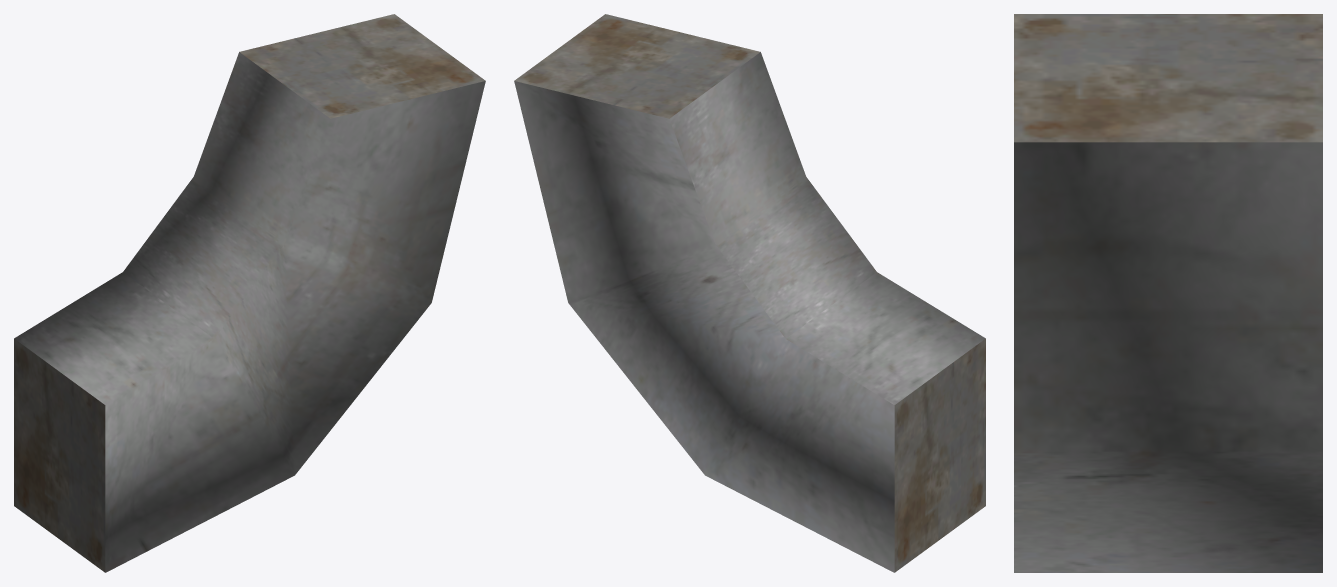
The model's file is p_glo_electrical_pipes_90deg_LOD1.obj.
The picture shows the model from 3 angles, left to right: view 1: azimuth 30°, elevation 25°; view 2: azimuth 150°, elevation 25°; view 3: azimuth 270°, elevation 25°; orthographic projection. The views are drawn at different scales.
Visible parts, largest first — view 1: mtl_p_rus_pipes_modular; view 2: mtl_p_rus_pipes_modular; view 3: mtl_p_rus_pipes_modular.
Part boxes in pixels (left/top/right/bottom): mtl_p_rus_pipes_modular: left=14, top=14, right=485, bottom=572; mtl_p_rus_pipes_modular: left=514, top=14, right=985, bottom=572; mtl_p_rus_pipes_modular: left=1014, top=14, right=1322, bottom=572.
Bounding box in the file's own units: 7.89 × 7.91 × 3.28.
